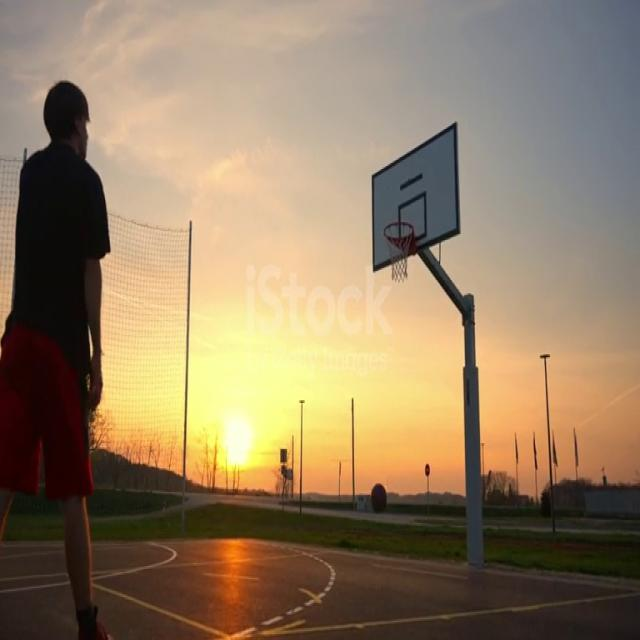ball: (370, 483, 388, 516)
